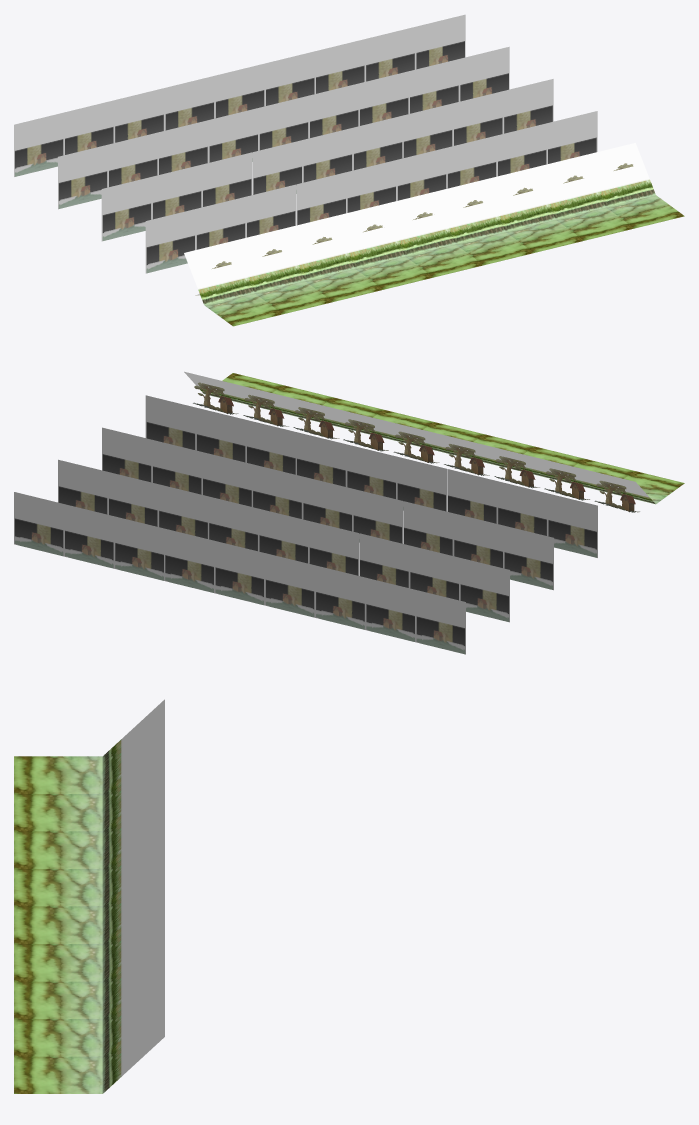
File: st_stage01.fbx
3 renders of one model, top to bottom at view 1: azimuth 30°, elevation 25°; view 2: azimuth 150°, elevation 25°; view 3: azimuth 270°, elevation 25°, orthographic. The views are drawn at different scales.
Visible parts, largest first — view 1: GEO_stage1; view 2: GEO_stage1; view 3: GEO_stage1.
Part boxes in pixels (x1,y1,x2,y2): GEO_stage1: [14, 14, 684, 326]; GEO_stage1: [14, 371, 684, 654]; GEO_stage1: [14, 699, 164, 1093].
Size of the model in its own units: 72.03 by 8.94 by 60.46.
